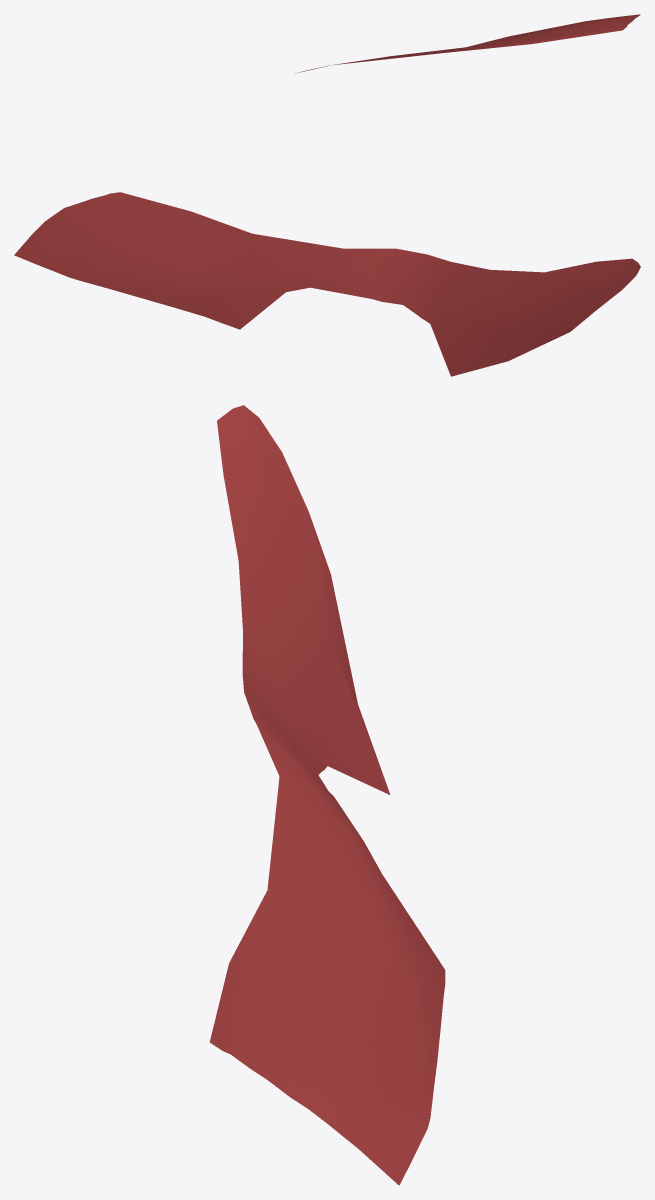
File: levatores-longi-costarum-e1l.glb
3 renders of one model, top to bottom at view 1: azimuth 30°, elevation 25°; view 2: azimuth 150°, elevation 25°; view 3: azimuth 270°, elevation 25°, orthographic. The views are drawn at different scales.
Parts seen in each view (by area): view 1: Levatores longi costarum.e1l; view 2: Levatores longi costarum.e1l; view 3: Levatores longi costarum.e1l.
Part boxes in pixels (<box>): Levatores longi costarum.e1l: <box>295,14,640,73</box>; Levatores longi costarum.e1l: <box>14,192,640,376</box>; Levatores longi costarum.e1l: <box>209,405,445,1185</box>.
Size of the model in its own units: 0.0228 by 0.00449 by 0.00396.
